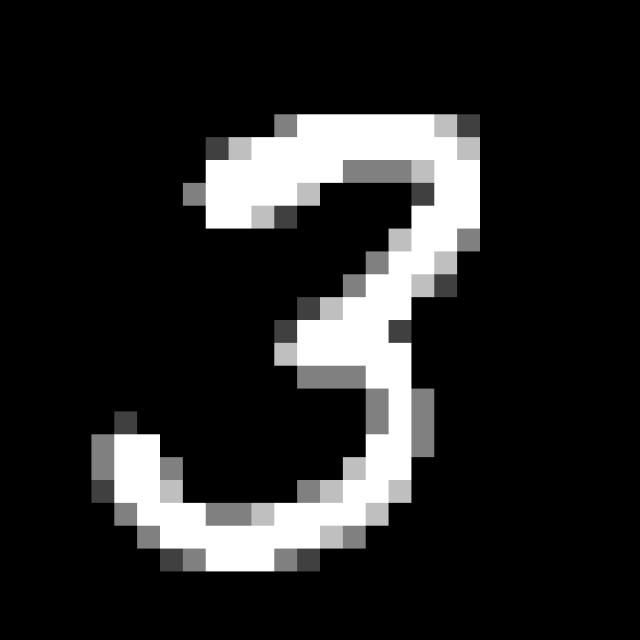three -3-: (78, 96, 501, 580)
